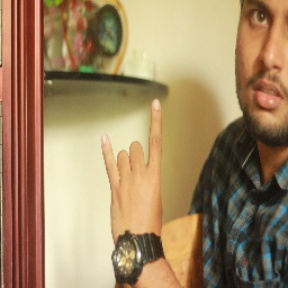V: (99, 97, 174, 245)
